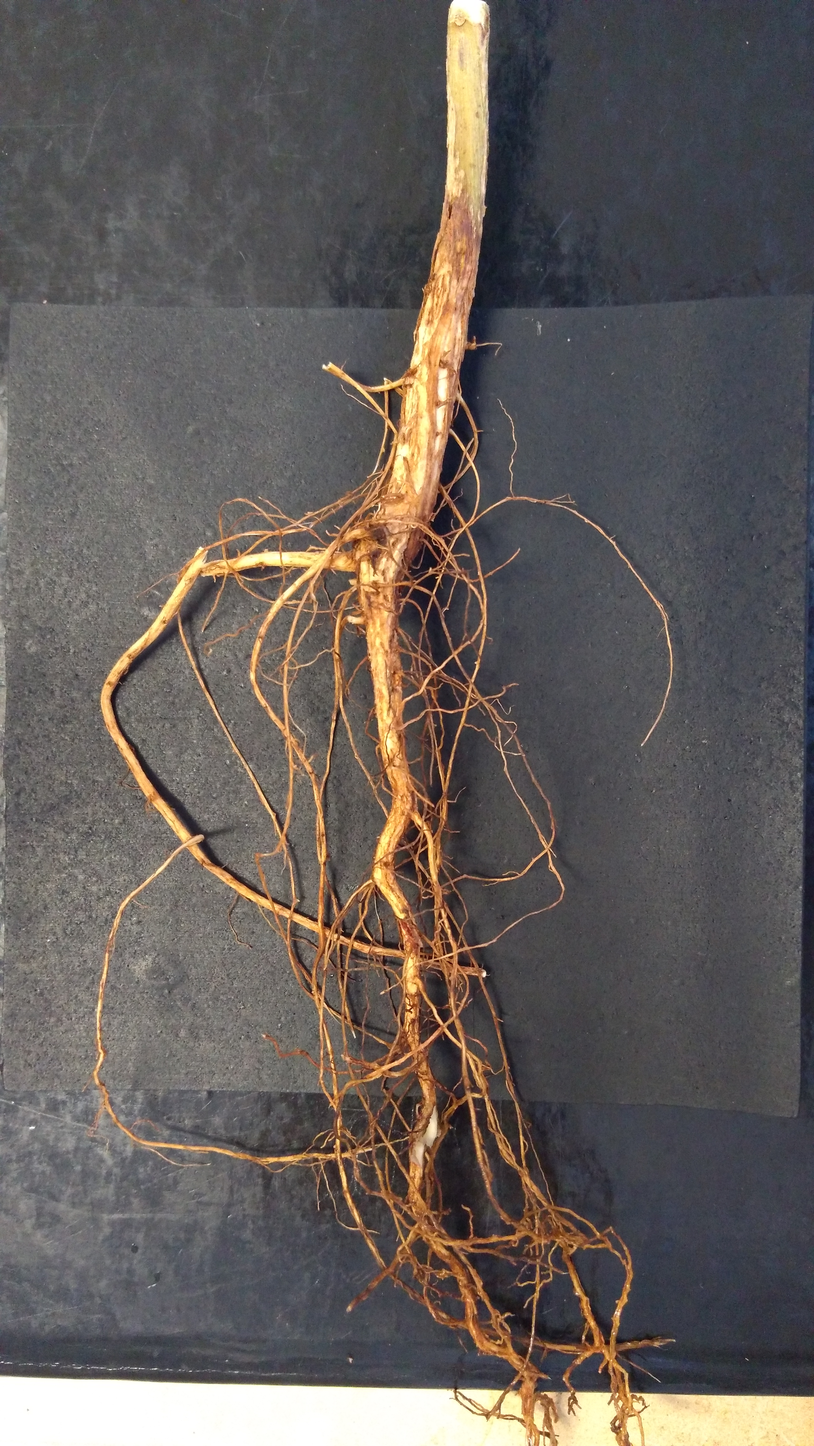nodule: (352, 537, 379, 560), (391, 673, 402, 688), (425, 820, 432, 831)
